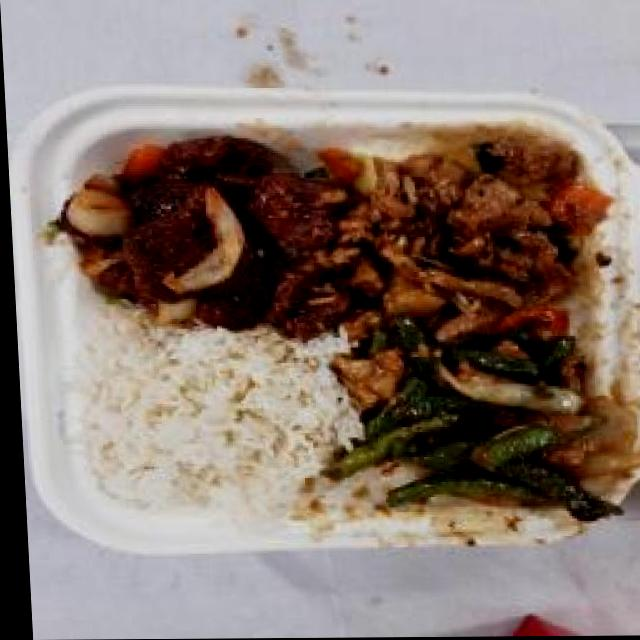Beijing Beef: (50, 123, 349, 335)
Kung Pao Chicken: (320, 122, 609, 331)
String Bean Chicken Breast: (346, 322, 614, 518)
White Steamed Rice: (71, 323, 342, 520)
